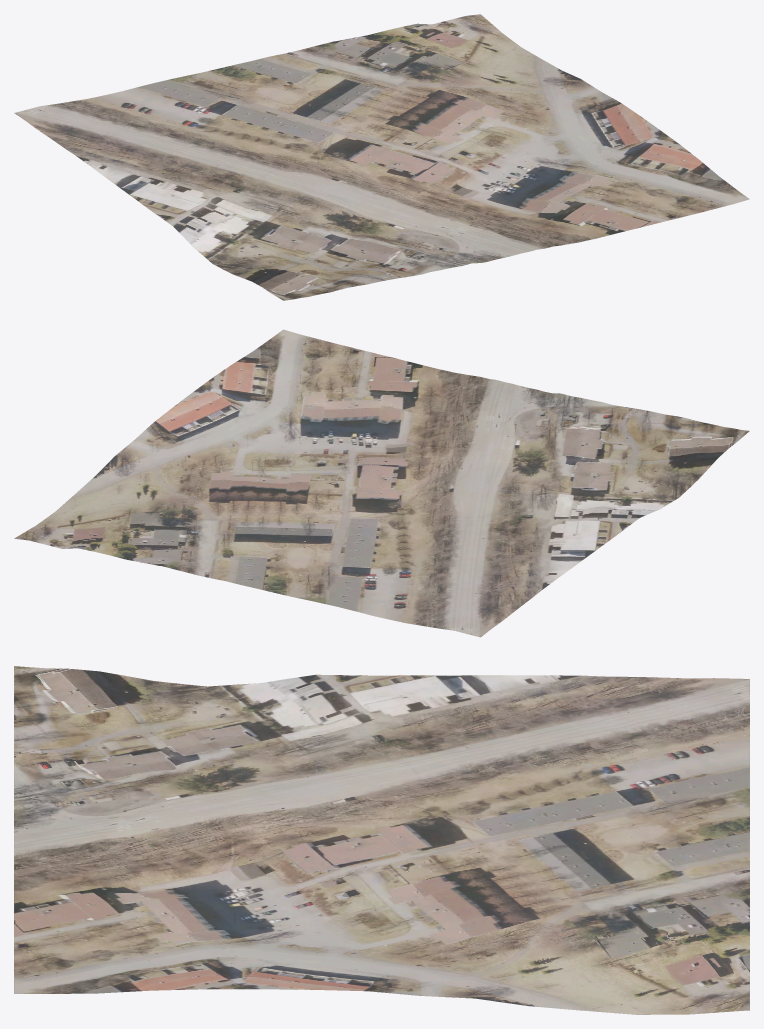
The model's file is CM_Terrain_24492097_6817541.fbx.
The picture shows the model from 3 angles, top to bottom: view 1: azimuth 30°, elevation 25°; view 2: azimuth 150°, elevation 25°; view 3: azimuth 270°, elevation 25°; orthographic projection. The views are drawn at different scales.
Parts seen in each view (by area): view 1: CM_Terrain_24492097_6817541_LOD0; view 2: CM_Terrain_24492097_6817541_LOD0; view 3: CM_Terrain_24492097_6817541_LOD0.
Boxes of the visible parts, left/top/right/bottom form: CM_Terrain_24492097_6817541_LOD0: left=14, top=14, right=749, bottom=300; CM_Terrain_24492097_6817541_LOD0: left=14, top=329, right=749, bottom=637; CM_Terrain_24492097_6817541_LOD0: left=14, top=666, right=749, bottom=1014.
Size of what is drawn, in the model's own units: 205 by 11.61 by 205.
